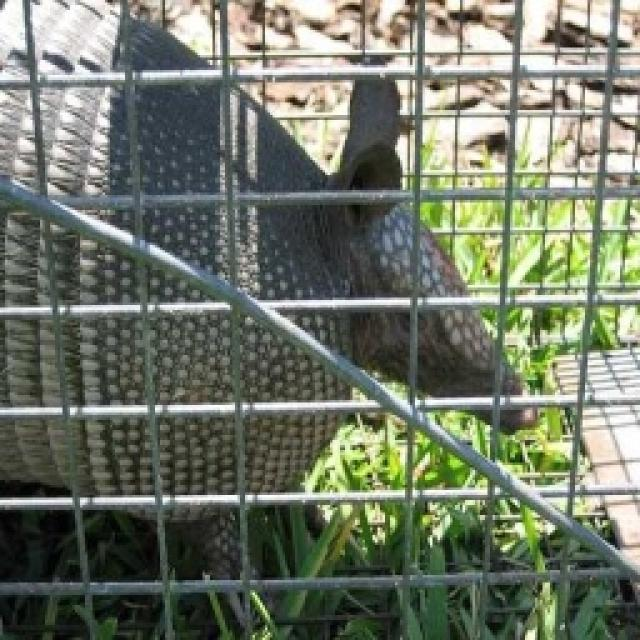not_pig: (0, 0, 537, 612)
